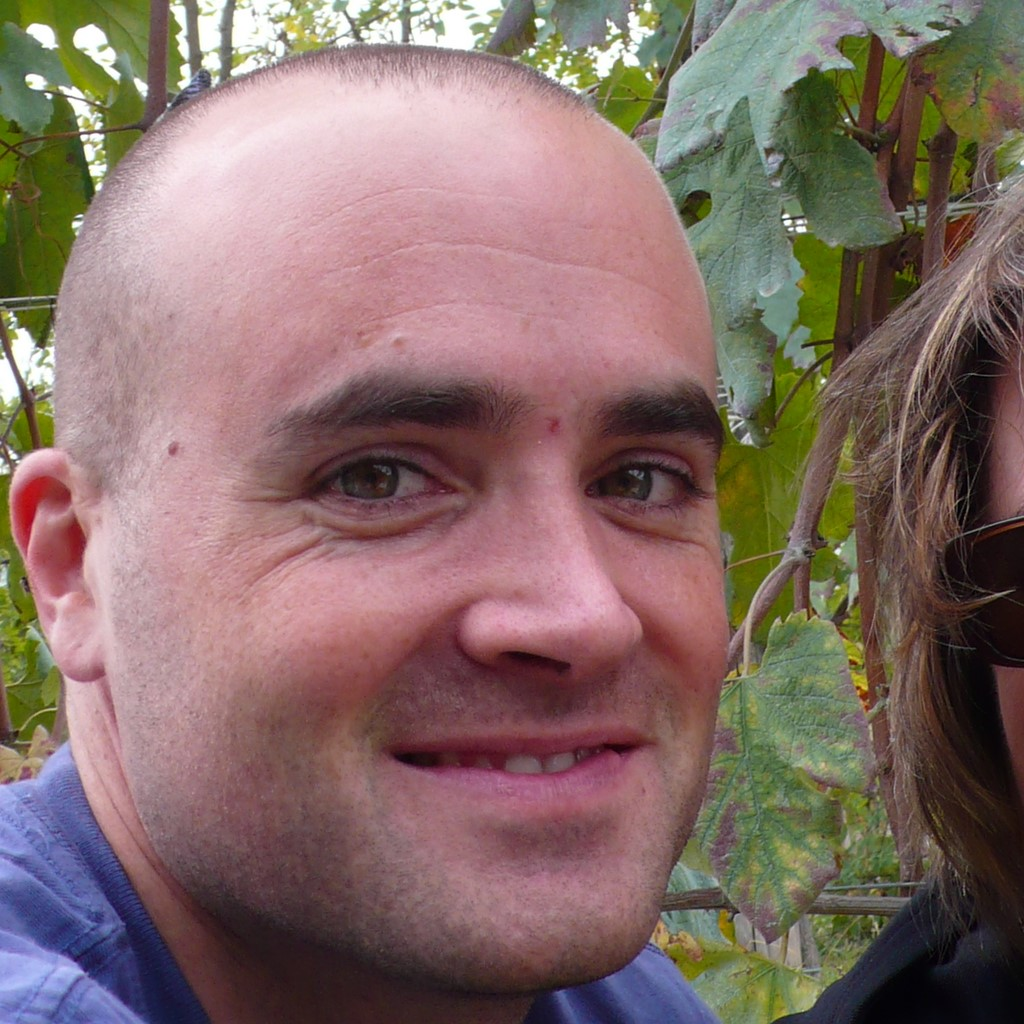sin_mascara: (87, 103, 735, 976)
